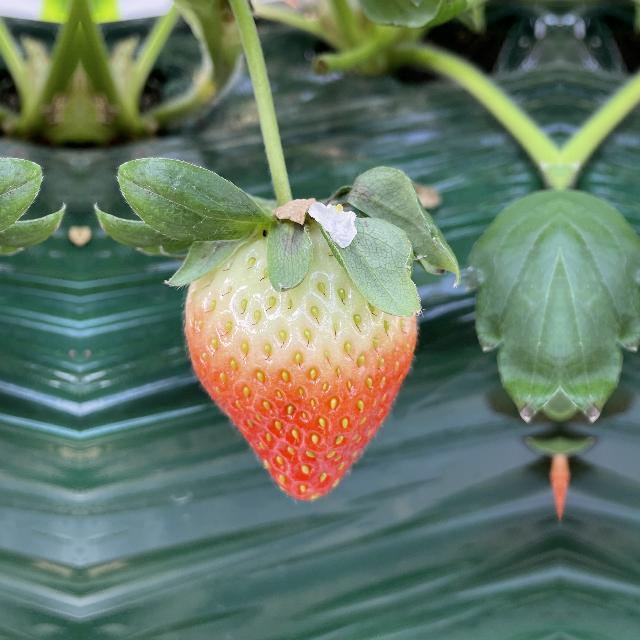Health_75: (181, 207, 423, 505)
